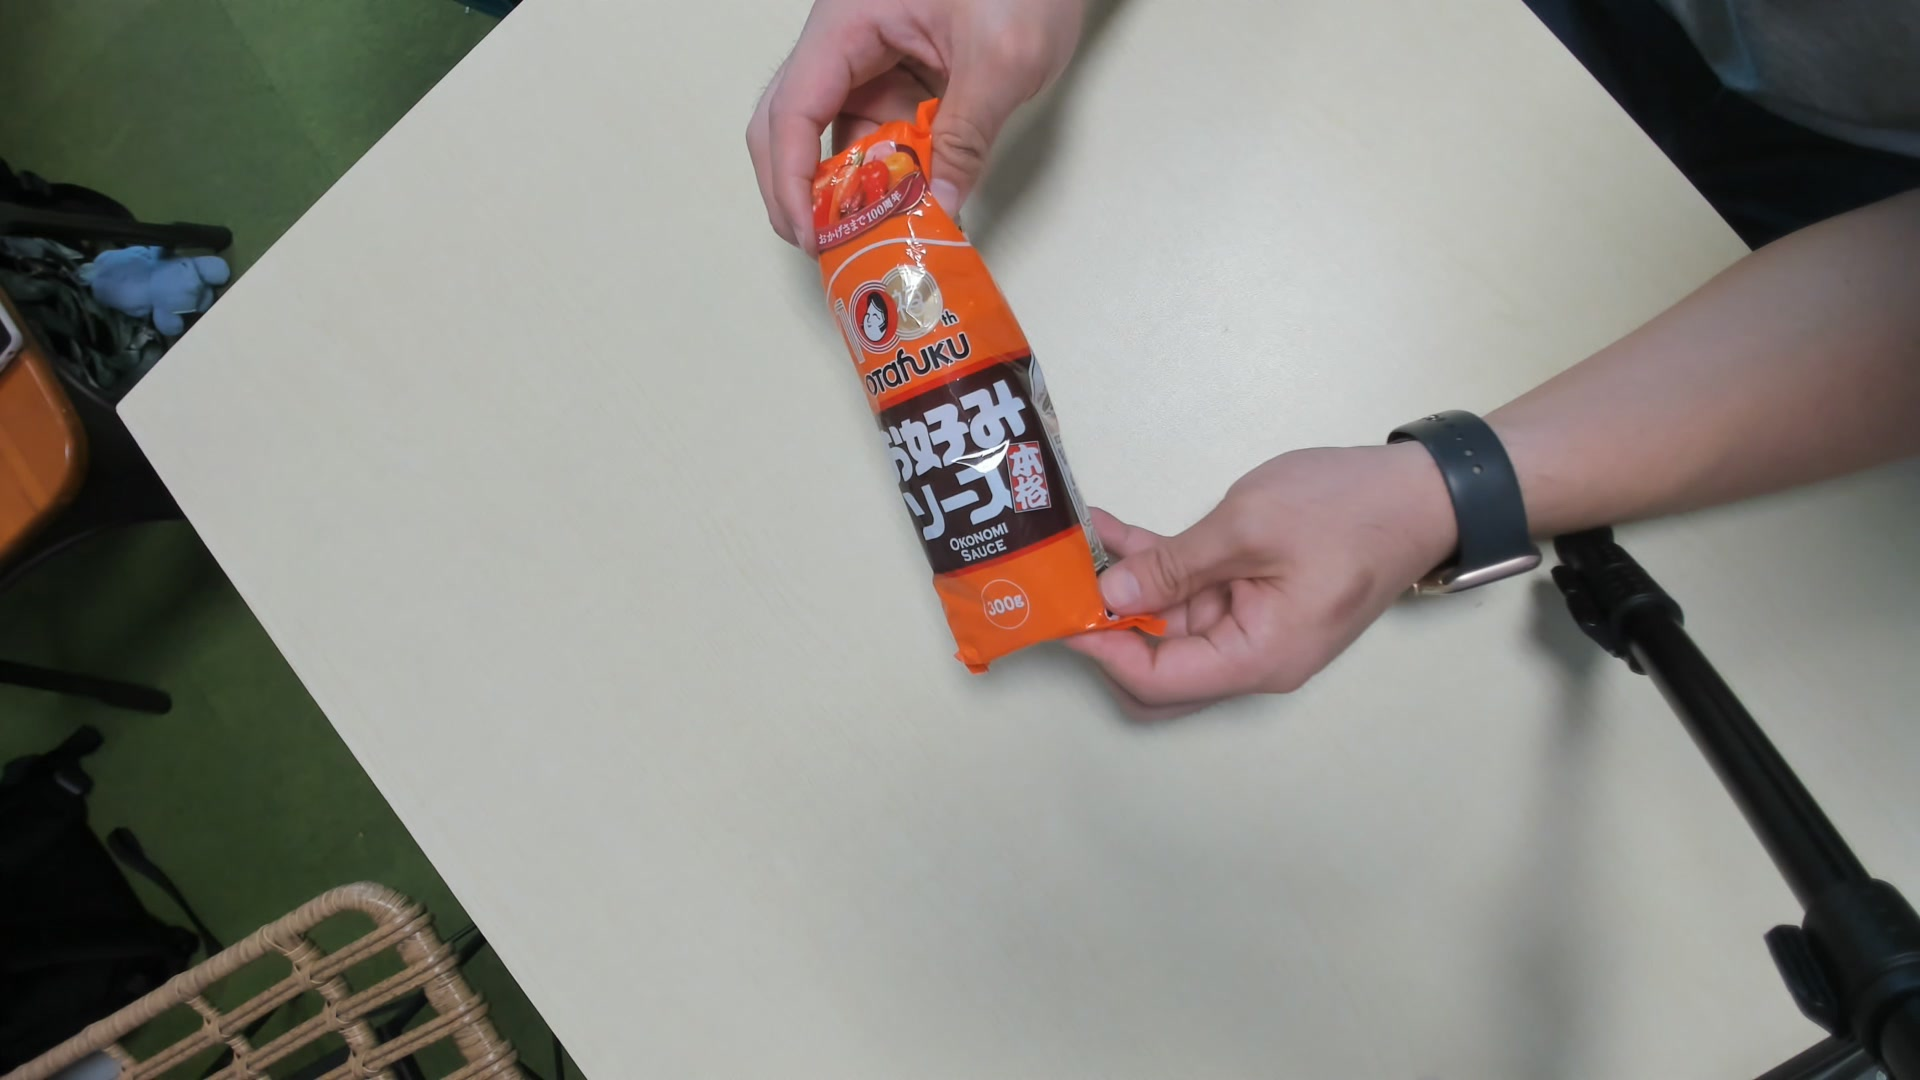OtherSauceDressing_300-399g_NonHalal_NonHealthy: (808, 102, 1112, 674)
